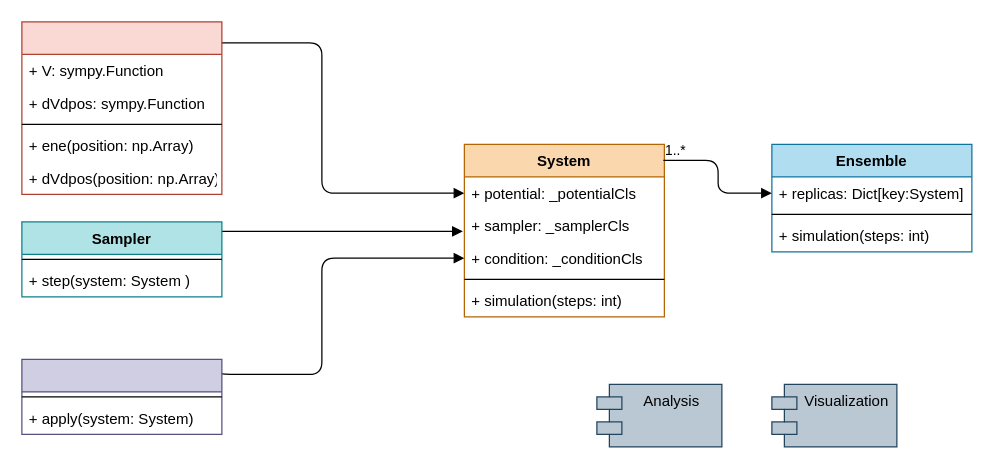
This 994x469 diagram has some shape labels left out. Here are the shapes that lost their labels. From the top down, the box of each, then its label:
(21, 21, 222, 194): Potential
(21, 358, 222, 434): Condition
